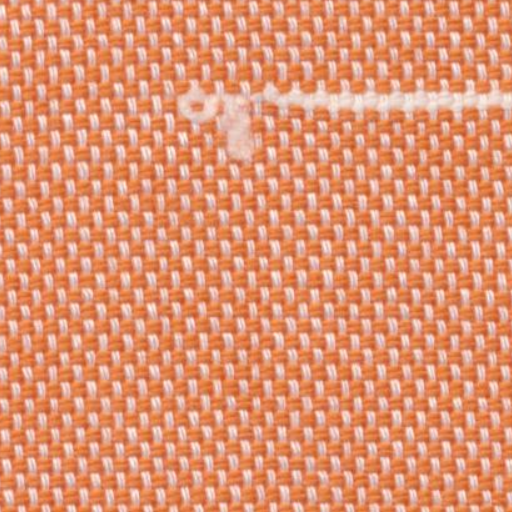DuanSha: (166, 74, 286, 174)
